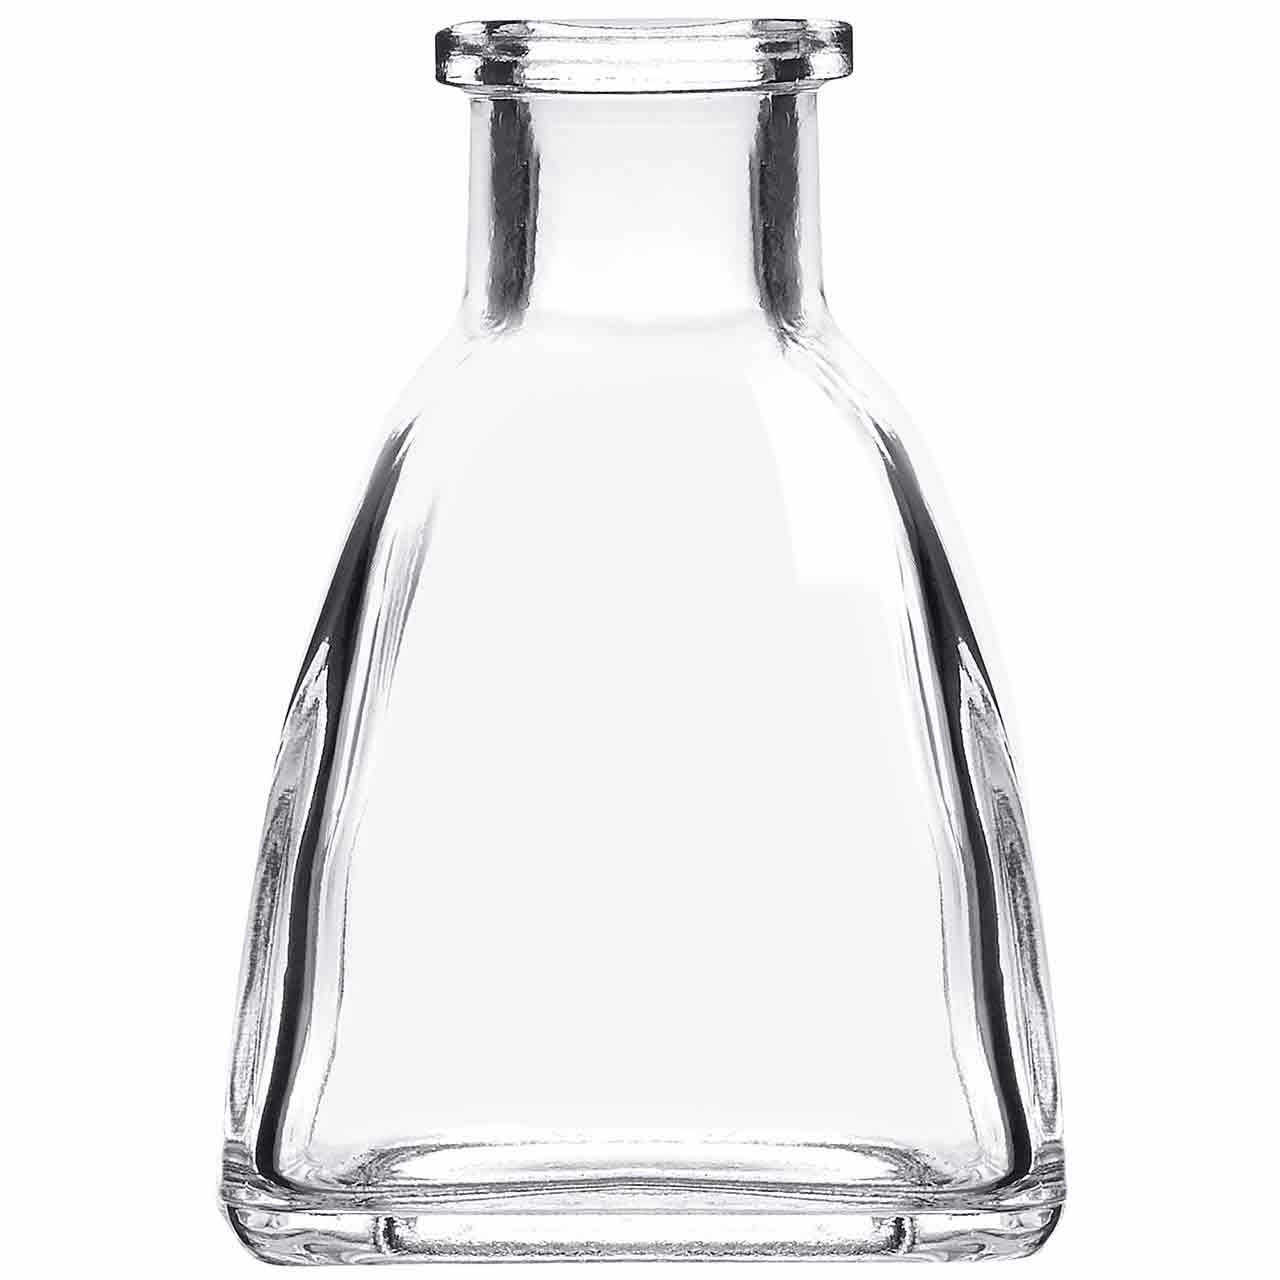glass_bottle: (195, 11, 1129, 1273)
